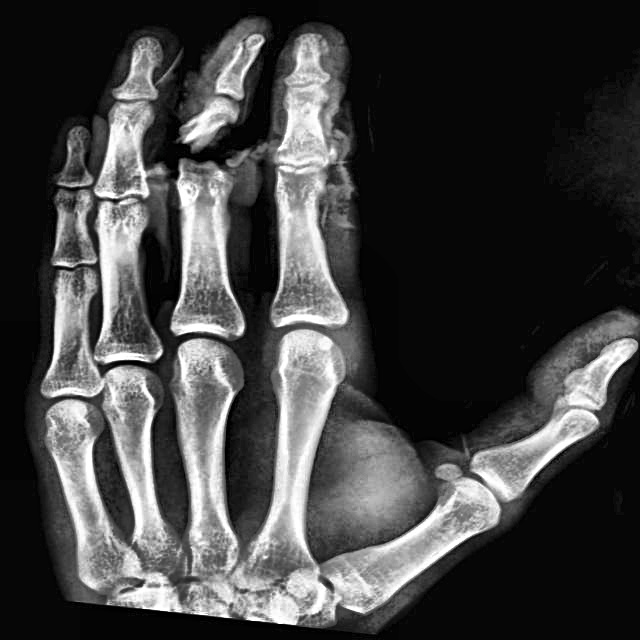Transverse: (171, 91, 245, 187)
